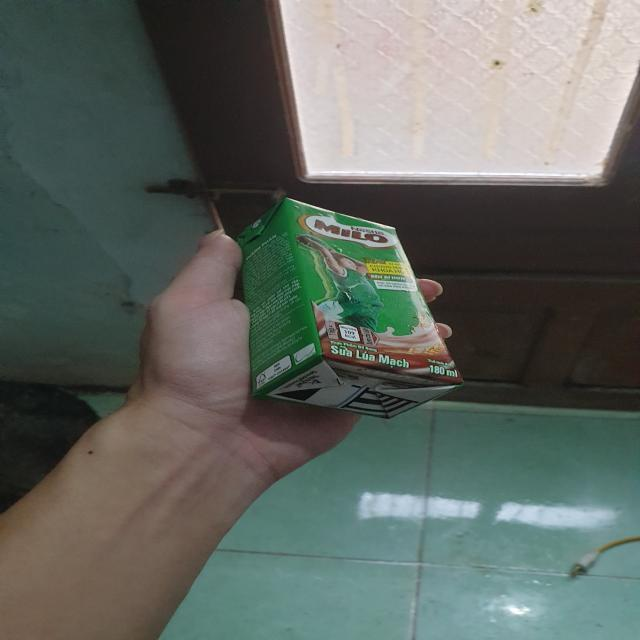Milo: (234, 197, 469, 422)
